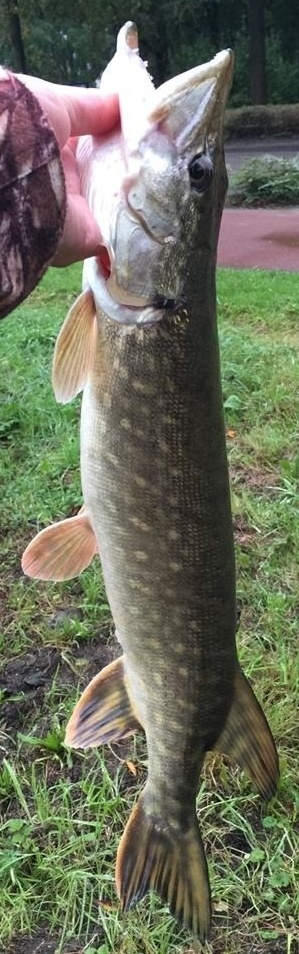Esox lucius: (20, 20, 279, 939)
